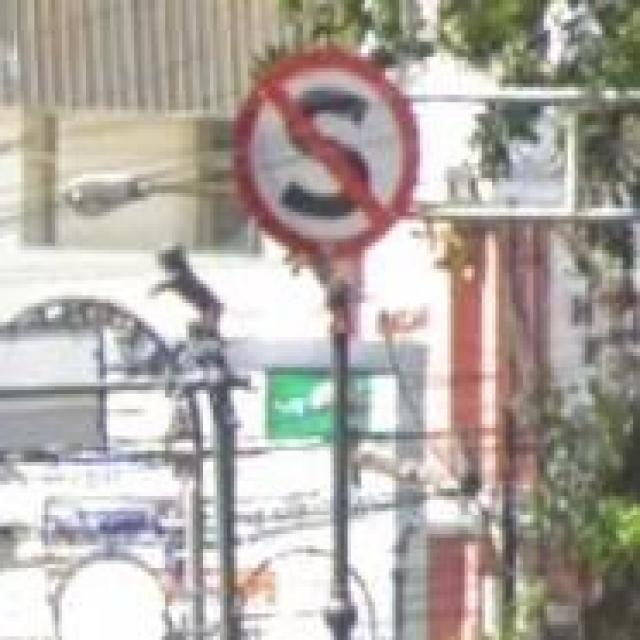traffic sign: (231, 53, 420, 258)
